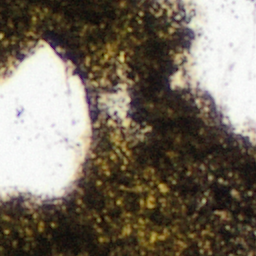cement_matrix: (0, 0, 255, 255), (97, 80, 131, 129)
gravel_crushed_stones: (0, 46, 88, 196), (164, 0, 255, 142), (98, 81, 130, 128)
